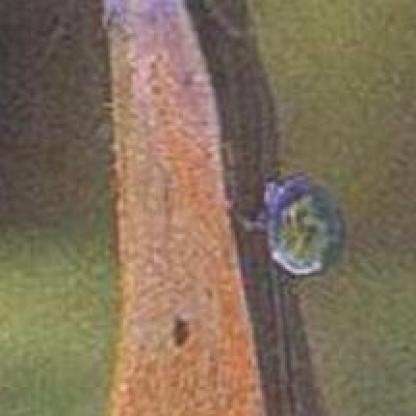stem-borer: (98, 0, 268, 416)
